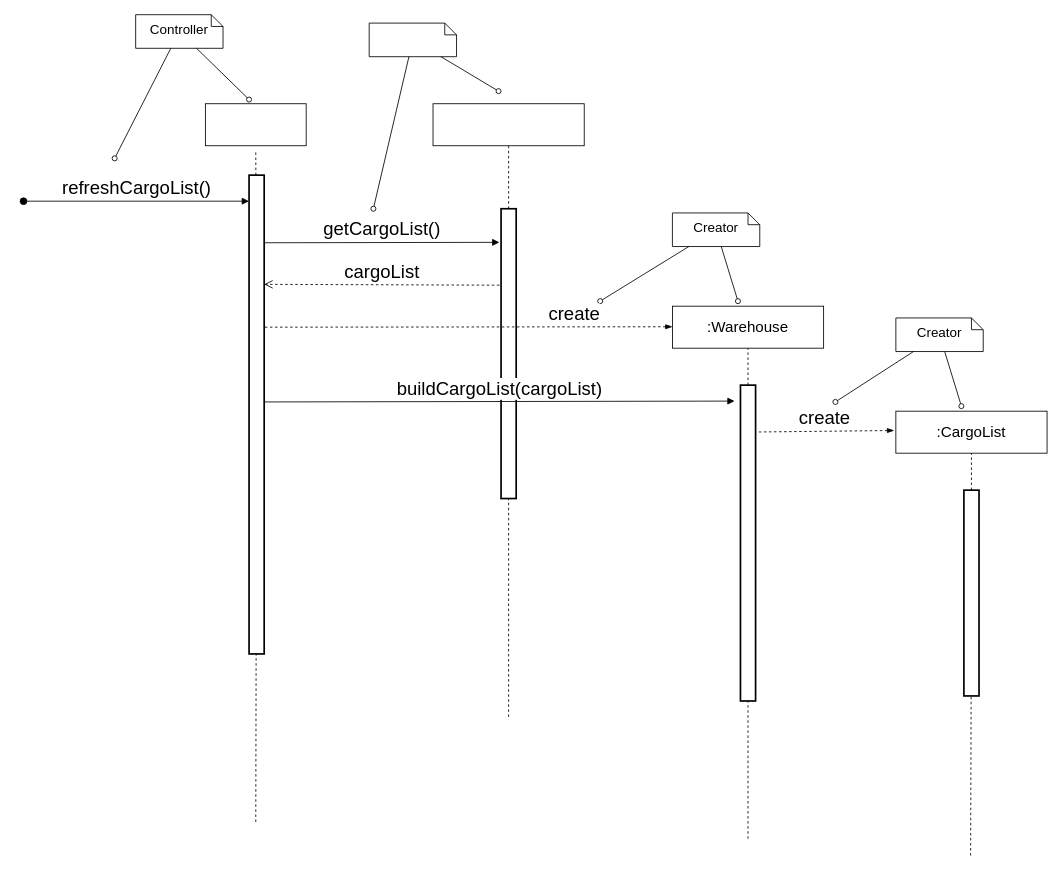
Some shapes in this 1062 by 871 pixel diagram are drawn without their labels. The shapes that lost their labels are listed below. From the top down, each one's centre as x and y in pixels, then its label:
[412,39]: Expert
[255,124]: :RMSHandler
[508,124]: : CargoDao
